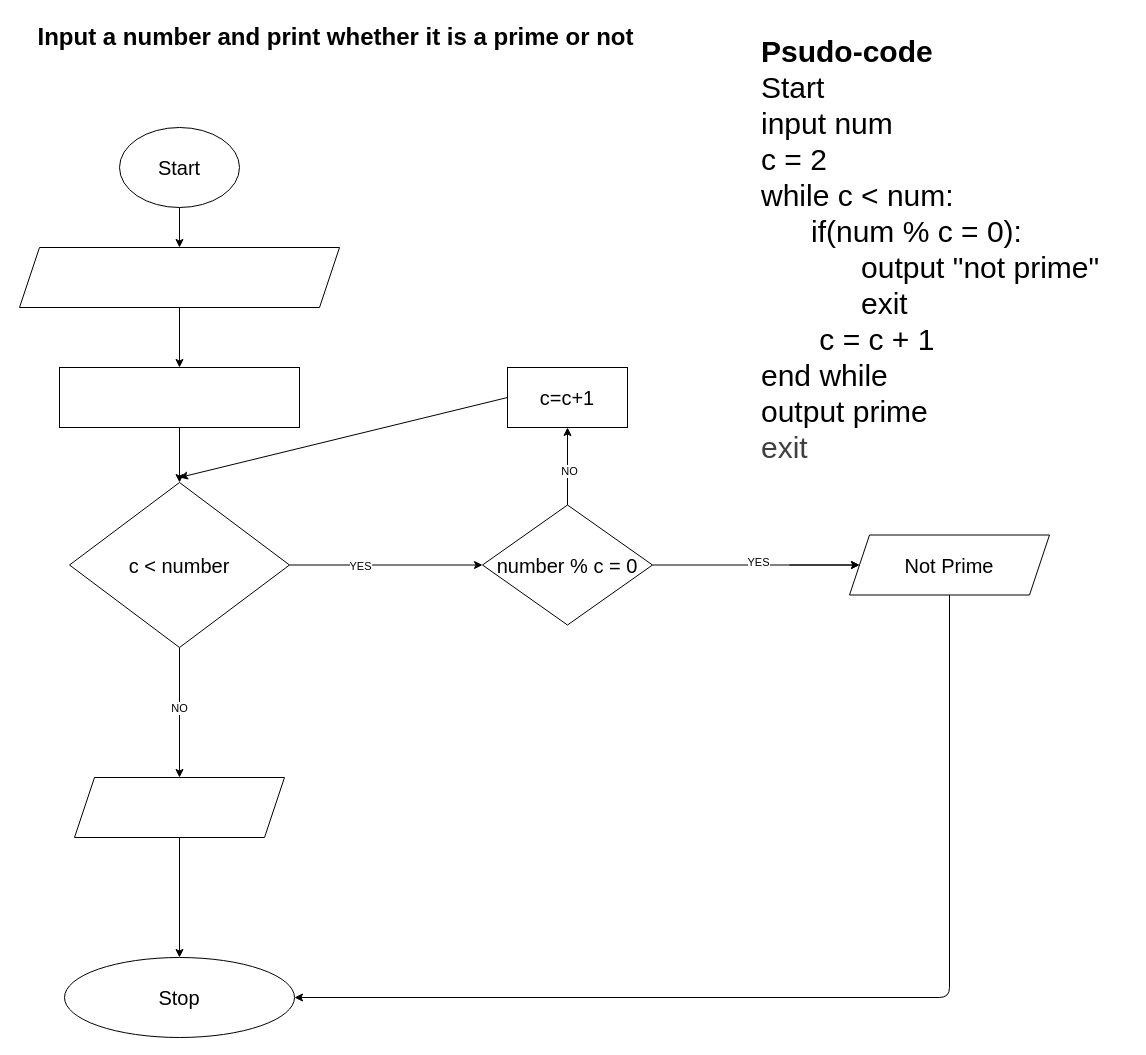
Some shapes in this 1146 by 1055 pixel diagram are drawn without their labels. Here are the shapes that lost their labels. From the top down, the centre of each, then its label:
the point at 179,277: Input Number
the point at 179,397: c=2
the point at 179,807: Prime
